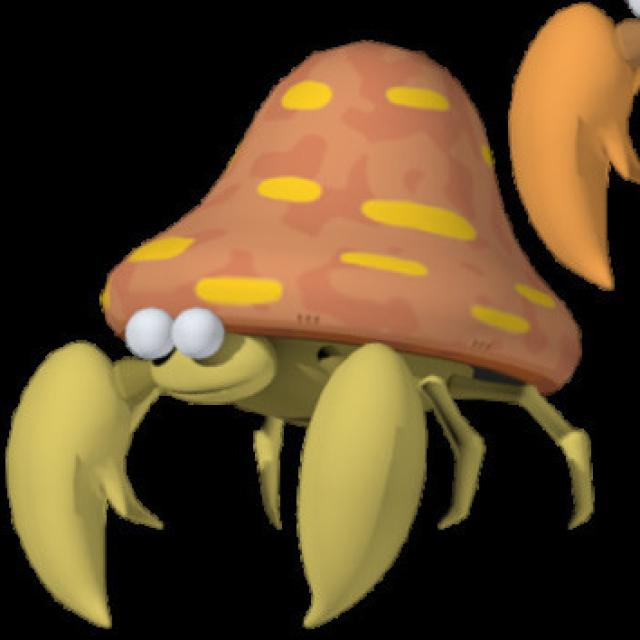Parasect: (4, 42, 551, 543)
